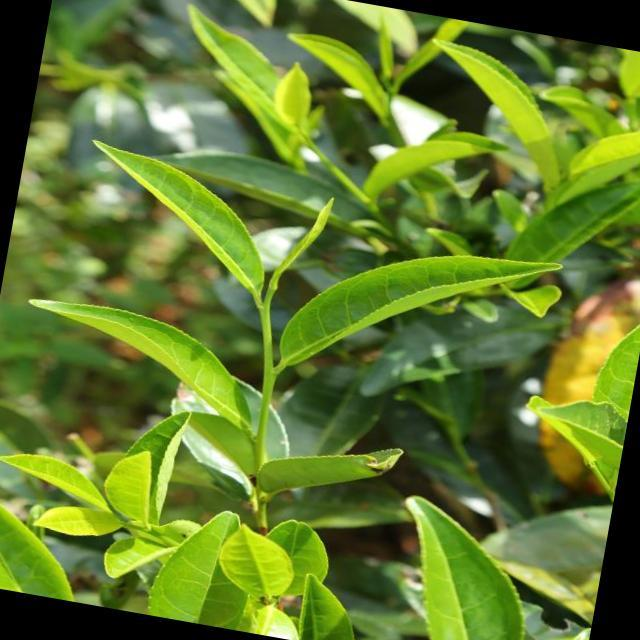Stem: (260, 305, 269, 316)
